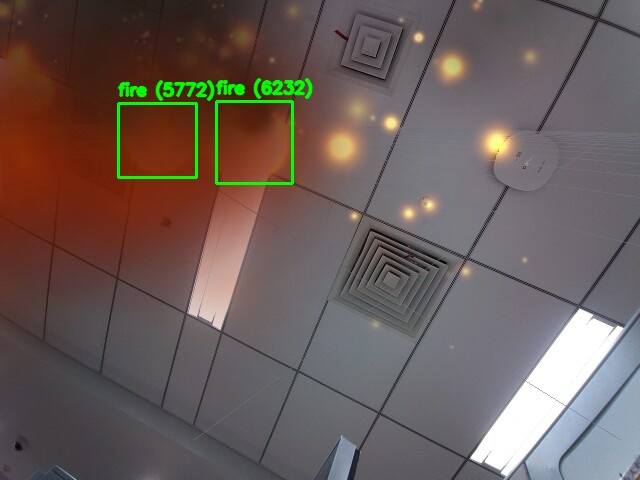fire: (216, 101, 292, 183), (118, 103, 196, 177)
